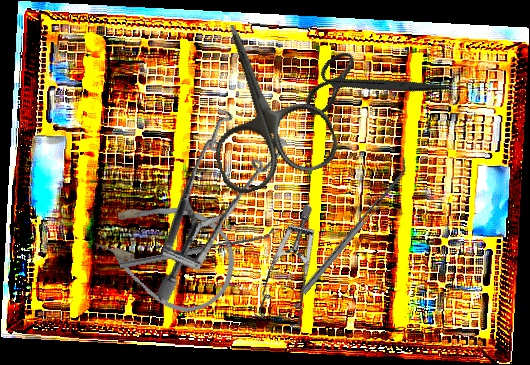Cannula: (82, 178, 251, 327)
Iris Scissors: (176, 4, 344, 200), (291, 13, 450, 159)
Spatula Surgical: (295, 157, 414, 295), (117, 226, 277, 269)
Speculum: (93, 88, 326, 305), (222, 203, 368, 346)
